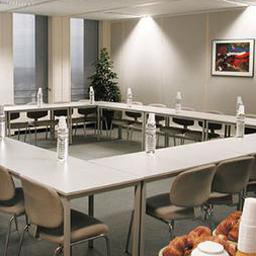Matera: (88, 50, 119, 131)
